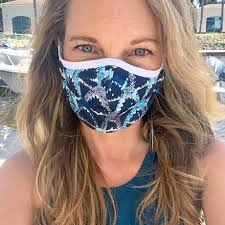FaceMask: (58, 58, 162, 133)
